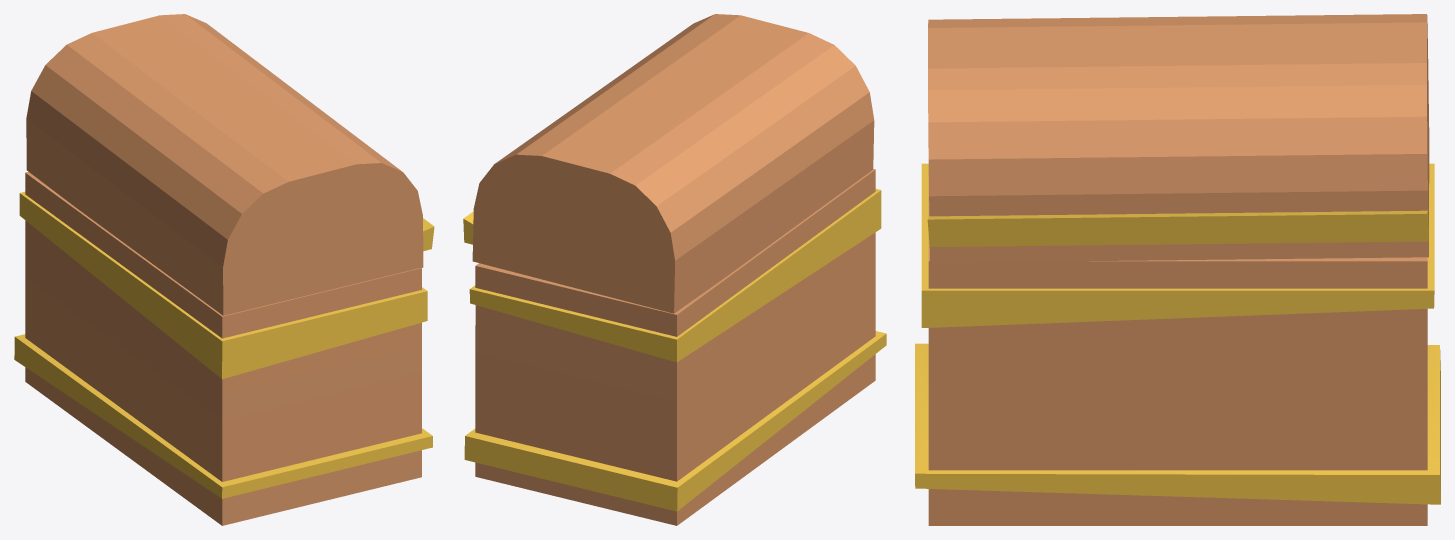
The model's file is chest.fbx.
3 renders of one model, left to right at view 1: azimuth 30°, elevation 25°; view 2: azimuth 150°, elevation 25°; view 3: azimuth 270°, elevation 25°, orthographic. The views are drawn at different scales.
Visible parts, largest first — view 1: chest, chest.001; view 2: chest, chest.001; view 3: chest, chest.001.
Boxes of the visible parts, x1,y1,x2,y2 form: chest: (14, 172, 432, 525); chest.001: (26, 14, 434, 315); chest: (464, 169, 886, 525); chest.001: (463, 14, 874, 313); chest: (915, 163, 1440, 525); chest.001: (927, 14, 1429, 262).
Bounding box in the file's own units: 30.48 × 44.65 × 50.36.
